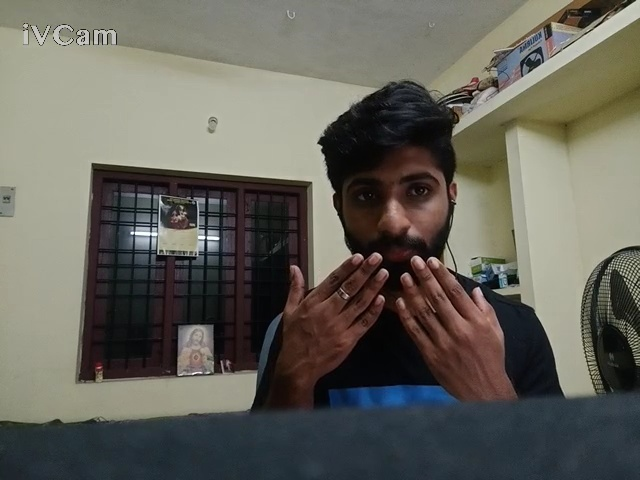Thank You: (261, 229, 511, 480)
